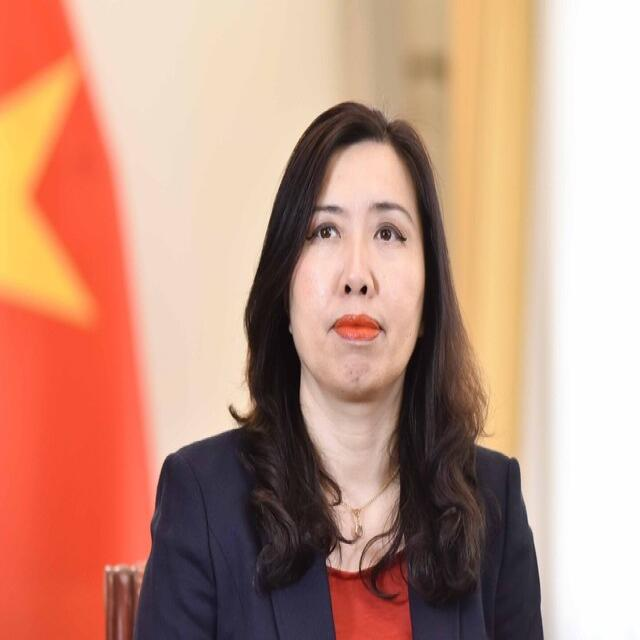Nonhelmet: (265, 95, 453, 429)
